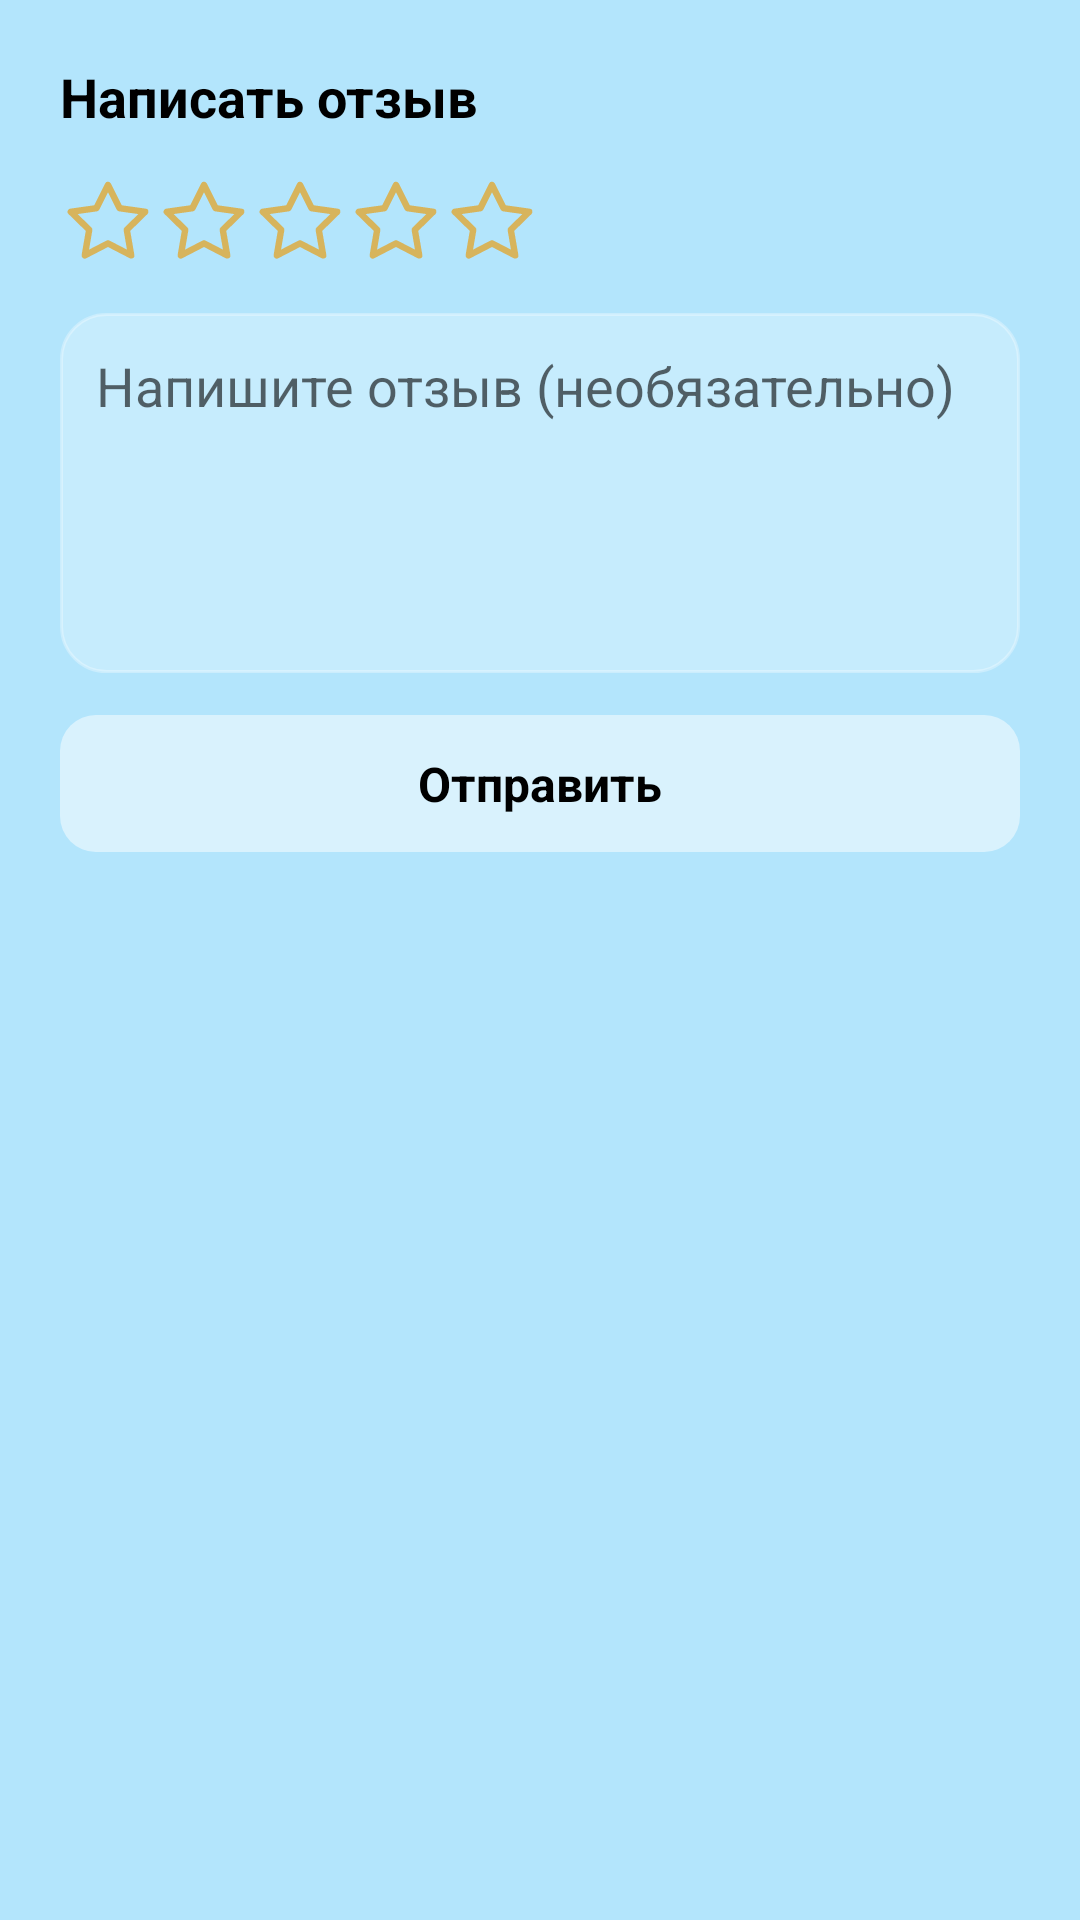

Icon bounding boxes for this 1080w x 1920h phone screenshot, format (left=x1, top=y1, right=x2, bottom=y2):
star: (left=67, top=181, right=149, bottom=259), (left=163, top=181, right=245, bottom=259), (left=259, top=181, right=341, bottom=259), (left=355, top=181, right=437, bottom=259), (left=451, top=181, right=533, bottom=259)
